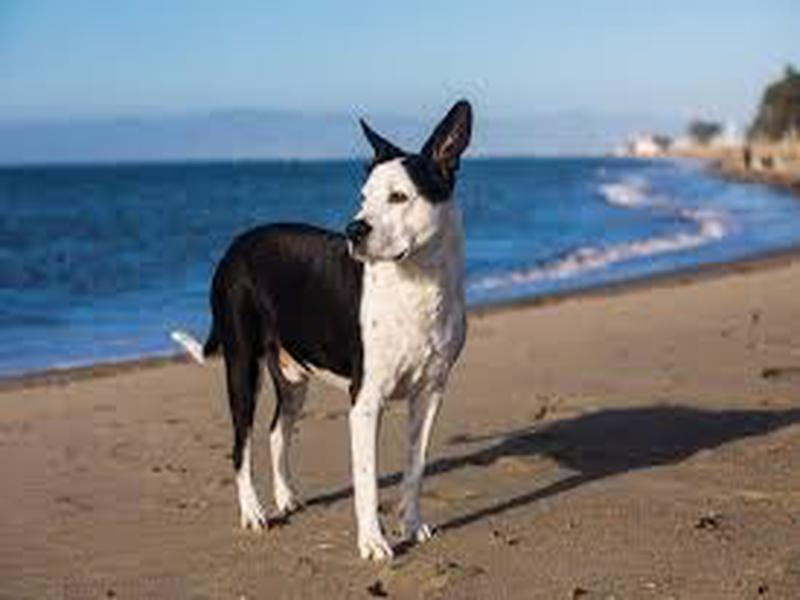dog_stand: (163, 97, 478, 562)
